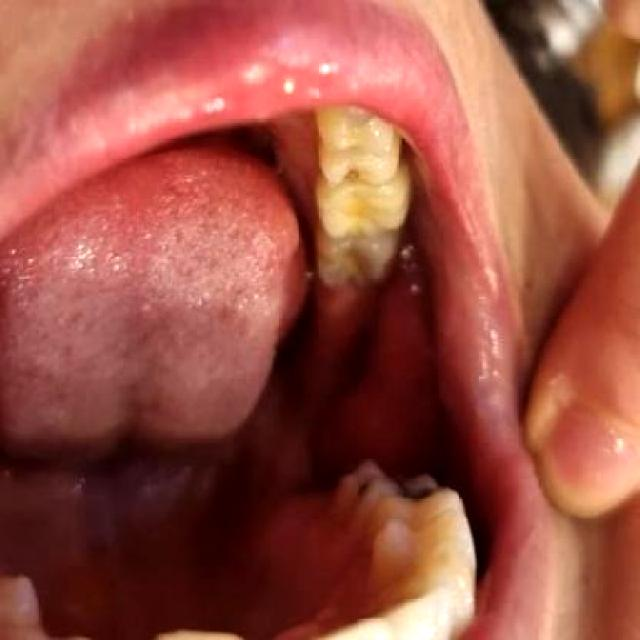Plaque: (344, 165, 362, 181)
